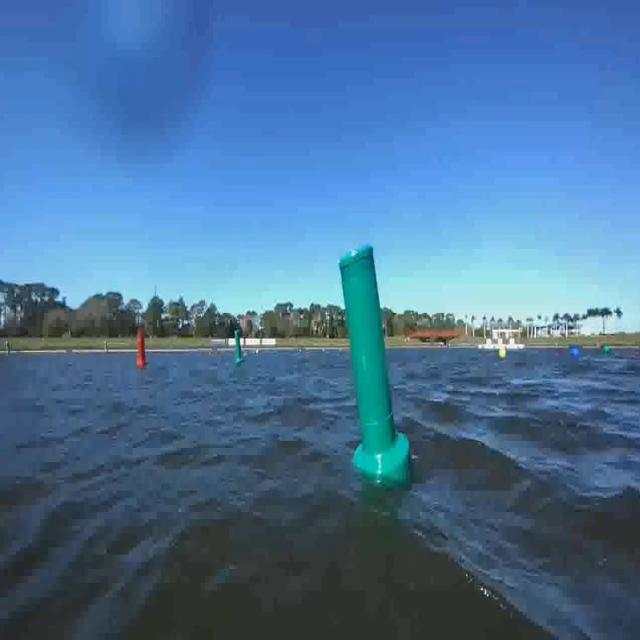blue-buoy: (570, 345, 580, 362)
green-column-buoy: (340, 244, 410, 487), (234, 329, 246, 363)
red-column-buoy: (136, 329, 149, 368)
yellow-buoy: (498, 346, 506, 362)
